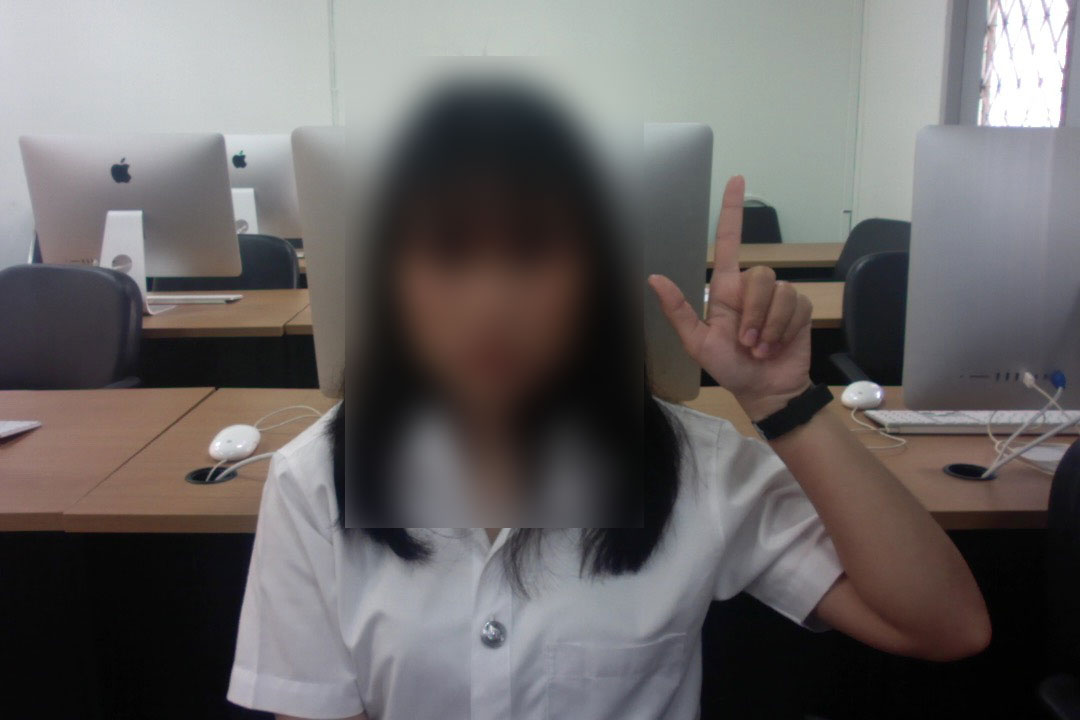lor: (635, 164, 852, 404)
